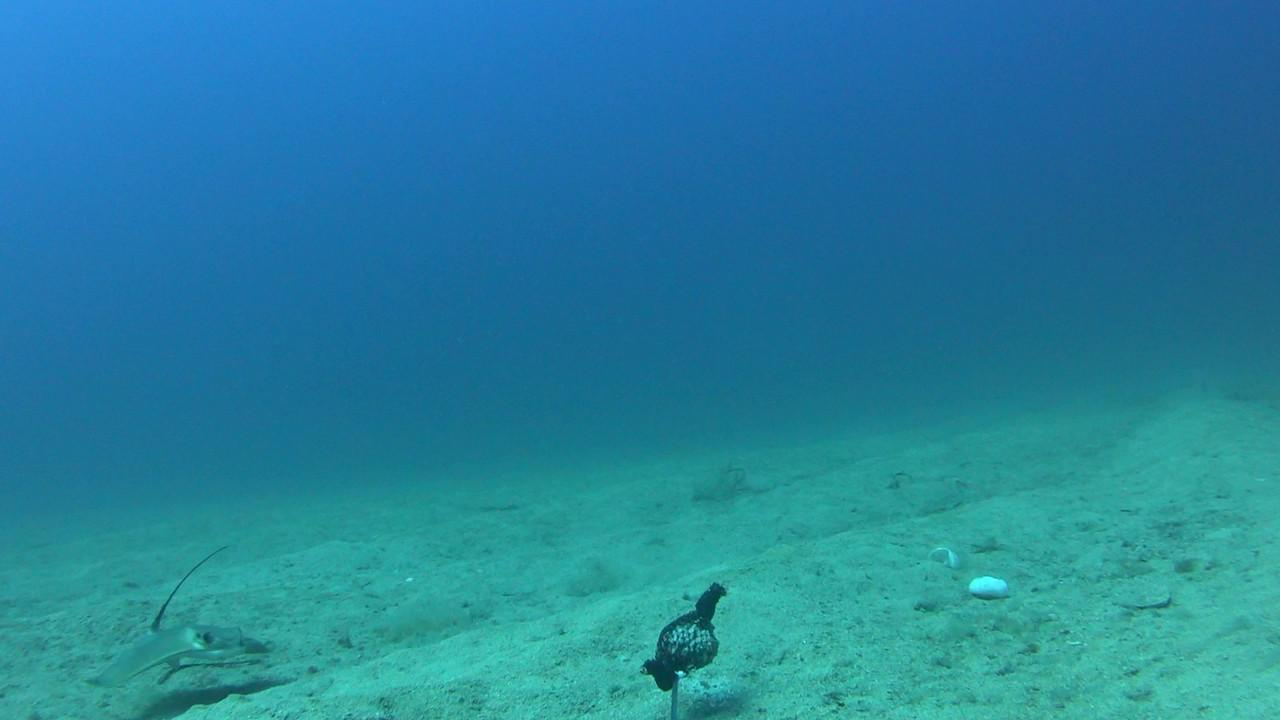myliobatis: (59, 536, 283, 690)
